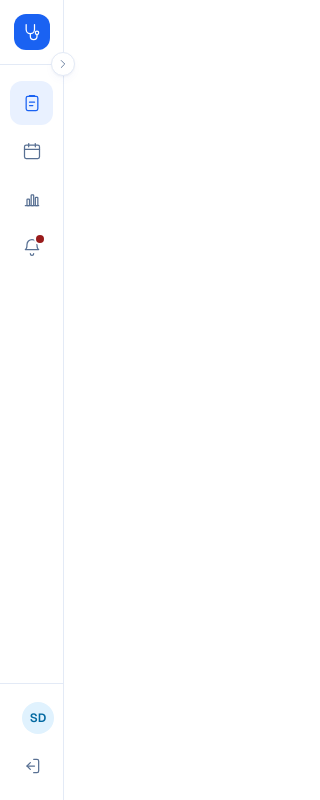
Test case: DoctorRail › starts collapsed and expands from the toggle
Click the button named "Expand menu" at {"x": 63, "y": 64}, box [51,52,75,76]
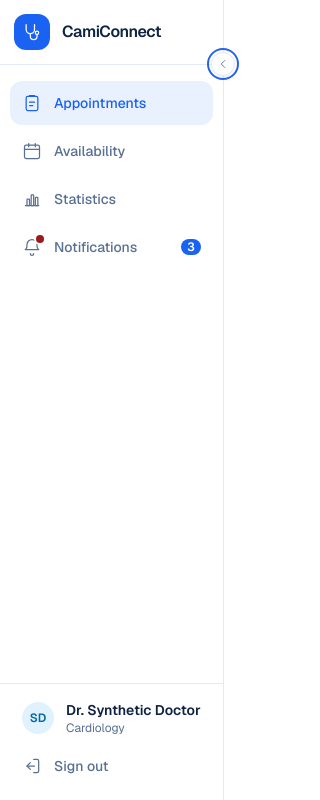
Expected: the button named "Collapse menu" is expanded, [211,52,235,76]
